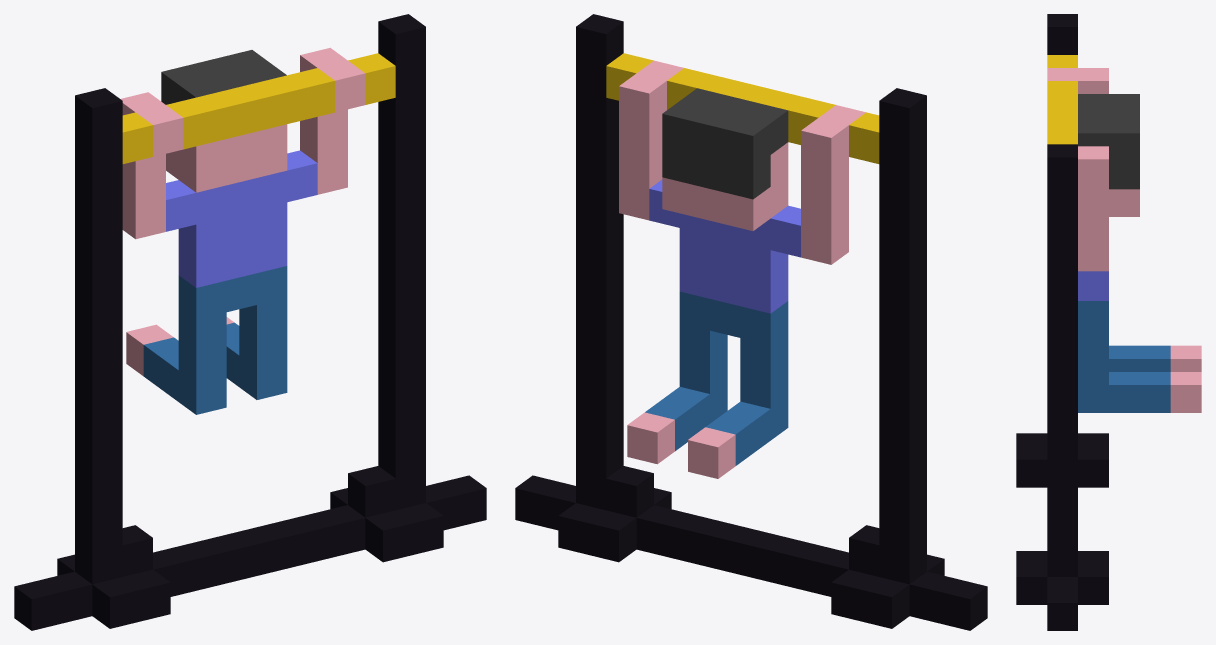
File: pull_up.vox.obj
3 renders of one model, left to right at view 1: azimuth 30°, elevation 25°; view 2: azimuth 150°, elevation 25°; view 3: azimuth 270°, elevation 25°, orthographic. The views are drawn at different scales.
Size of the model in its own units: 1.5 by 1.6 by 0.6.
Materials: 1 (1 with a texture image).
